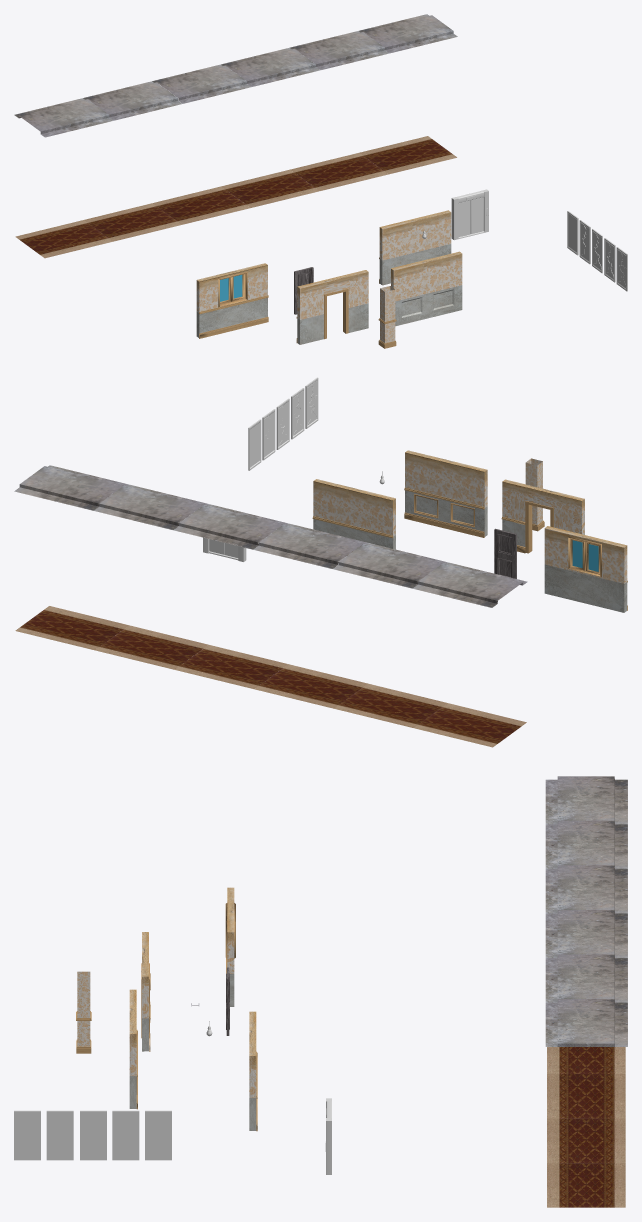
Rendered from Pronto.fbx.
3 renders of one model, top to bottom at view 1: azimuth 30°, elevation 25°; view 2: azimuth 150°, elevation 25°; view 3: azimuth 270°, elevation 25°, orthographic. The views are drawn at different scales.
Visible parts, largest first — view 1: Plane.001, Plane.015, parque_CS.046, parque_CS.005, parede_sul_CO.060, parque_CS.055, BASE, parque_CS.045; view 2: Plane.001, Plane.015, parque_CS.005, parque_CS.046, parque_CS.055, parede_sul_CO.060, porta_OP2.004, parque_CS.045, BASE, MirrorLPB.002; view 3: Plane.001, Plane.015, MirrorLPB.012, MirrorLPB.019, MirrorLPB.001, MirrorLPB.002, MirrorLPB.007, parque_CS.045, parque_CS.055, parque_CS.005, parque_CS.046, parede_sul_CO.060.
Part boxes in pixels (bbox=[...]): Plane.001: bbox=[14, 14, 457, 137]; Plane.015: bbox=[15, 136, 456, 258]; parque_CS.046: bbox=[196, 263, 268, 338]; parque_CS.005: bbox=[391, 251, 462, 326]; parede_sul_CO.060: bbox=[296, 270, 368, 344]; parque_CS.055: bbox=[379, 210, 451, 285]; BASE: bbox=[451, 189, 488, 240]; parque_CS.045: bbox=[378, 286, 396, 348]; Plane.001: bbox=[14, 465, 527, 607]; Plane.015: bbox=[15, 606, 526, 747]; parque_CS.005: bbox=[404, 450, 487, 537]; parque_CS.046: bbox=[544, 526, 627, 612]; parque_CS.055: bbox=[312, 479, 395, 555]; parede_sul_CO.060: bbox=[502, 479, 584, 553]; porta_OP2.004: bbox=[494, 528, 516, 578]; parque_CS.045: bbox=[525, 458, 544, 531]; BASE: bbox=[203, 537, 246, 561]; MirrorLPB.002: bbox=[248, 419, 261, 470]; Plane.001: bbox=[545, 776, 627, 1046]; Plane.015: bbox=[547, 1047, 625, 1207]; MirrorLPB.012: bbox=[46, 1110, 73, 1160]; MirrorLPB.019: bbox=[112, 1110, 139, 1160]; MirrorLPB.001: bbox=[14, 1110, 40, 1160]; MirrorLPB.002: bbox=[145, 1110, 171, 1160]; MirrorLPB.007: bbox=[80, 1110, 106, 1160]; parque_CS.045: bbox=[76, 971, 91, 1053]; parque_CS.055: bbox=[249, 1011, 257, 1131]; parque_CS.005: bbox=[129, 989, 137, 1109]; parque_CS.046: bbox=[225, 887, 235, 1006]; parede_sul_CO.060: bbox=[141, 932, 150, 1051].
Bounding box in the file's own units: 2406 × 691 × 2335.
